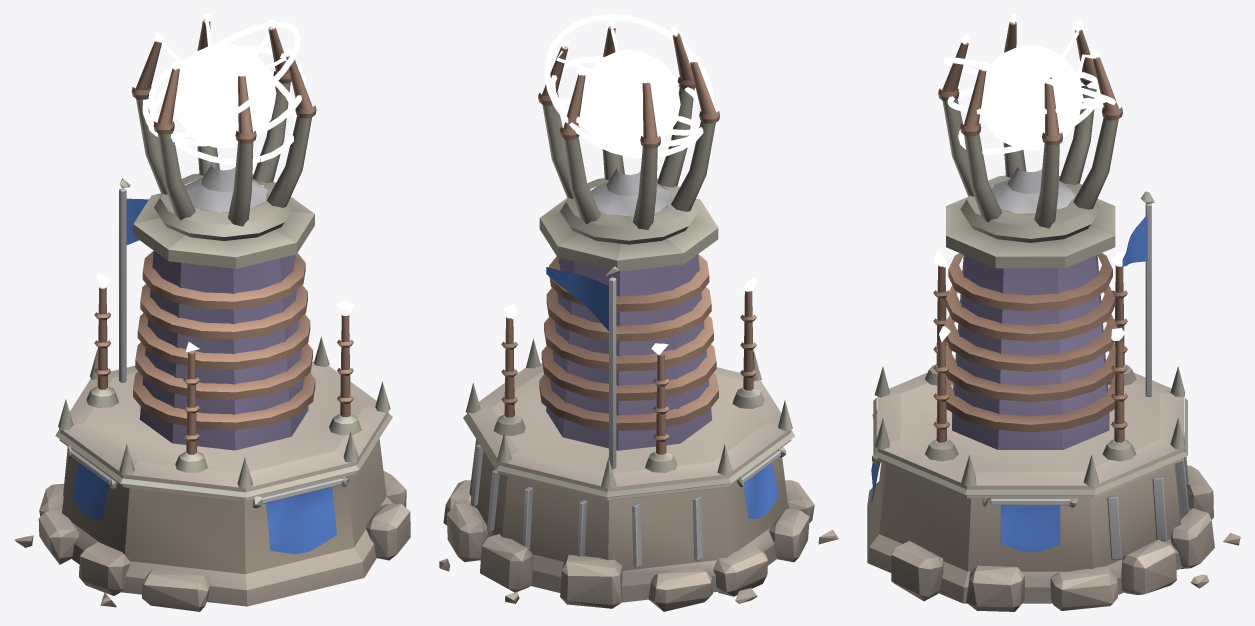
Rendered from spark_1_9.glb.
The picture shows the model from 3 angles, left to right: view 1: azimuth 30°, elevation 25°; view 2: azimuth 150°, elevation 25°; view 3: azimuth 270°, elevation 25°; orthographic projection.
Visible parts, largest first — view 1: Tower, Turret; view 2: Tower, Turret; view 3: Tower, Turret.
Boxes of the visible parts, x1,y1,x2,y2 form: Tower: [14, 178, 410, 611]; Turret: [131, 14, 316, 240]; Tower: [439, 193, 838, 611]; Turret: [538, 14, 719, 244]; Tower: [867, 186, 1240, 611]; Turret: [938, 14, 1122, 242].
Size of the model in its own units: 3.56 by 5.22 by 3.51.
